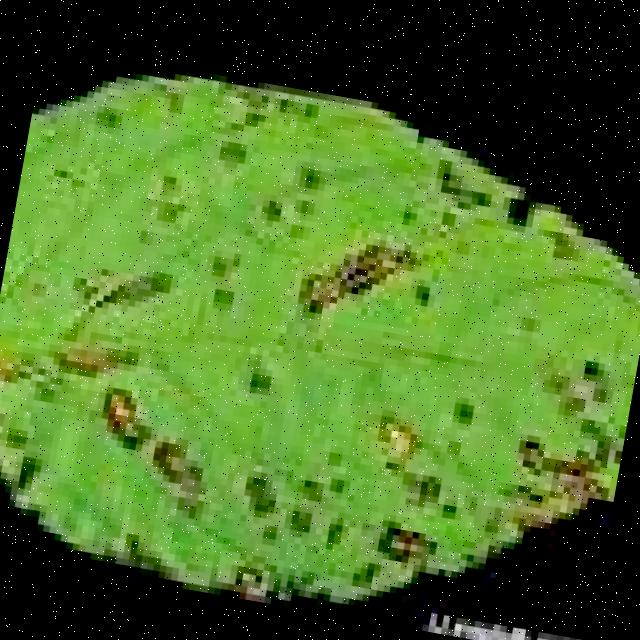leaf spot: (0, 21, 640, 636)
